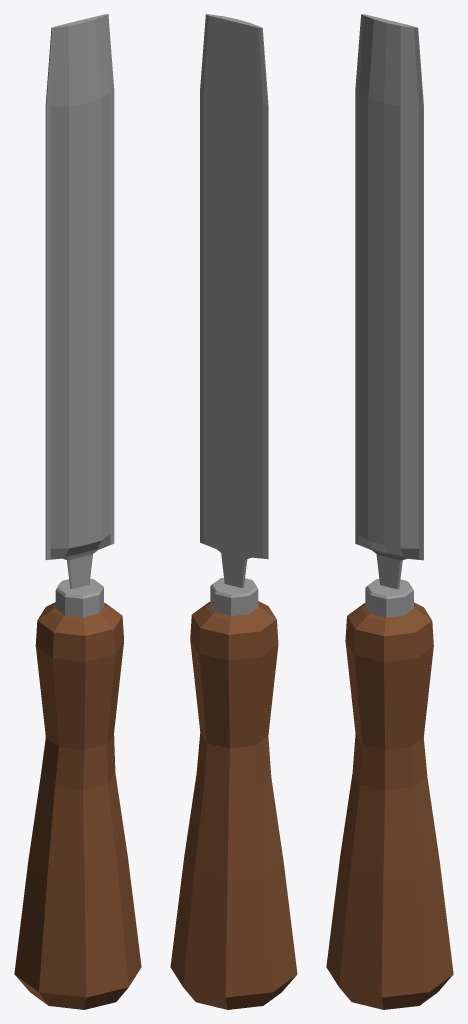
The model's file is rasp01.obj.
3 views of the same model, side by side, from view 1: azimuth 30°, elevation 25°; view 2: azimuth 150°, elevation 25°; view 3: azimuth 330°, elevation 25° (orthographic).
Parts seen in each view (by area): view 1: Cylinder_Cylinder.002; view 2: Cylinder_Cylinder.002; view 3: Cylinder_Cylinder.002.
Boxes of the visible parts, left/top/right/bottom form: Cylinder_Cylinder.002: left=14, top=14, right=141, bottom=1009; Cylinder_Cylinder.002: left=170, top=14, right=297, bottom=1009; Cylinder_Cylinder.002: left=326, top=14, right=453, bottom=1009.
Bounding box in the file's own units: 0.0226 × 0.2037 × 0.0226.
1 material, 1 textured.
